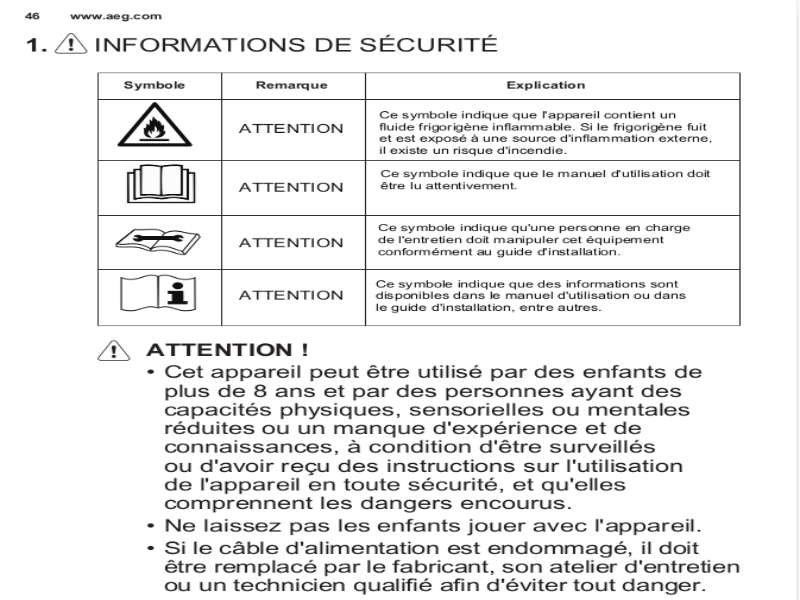border: (87, 66, 755, 332)
cell: (374, 107, 722, 156), (373, 219, 702, 261), (370, 275, 706, 315), (372, 165, 725, 194), (112, 101, 203, 153), (113, 161, 202, 208), (111, 274, 204, 318), (112, 219, 205, 261), (231, 281, 351, 311), (234, 115, 350, 143), (234, 228, 350, 255), (234, 173, 348, 200), (251, 77, 333, 94), (501, 78, 588, 93), (116, 78, 188, 92)
